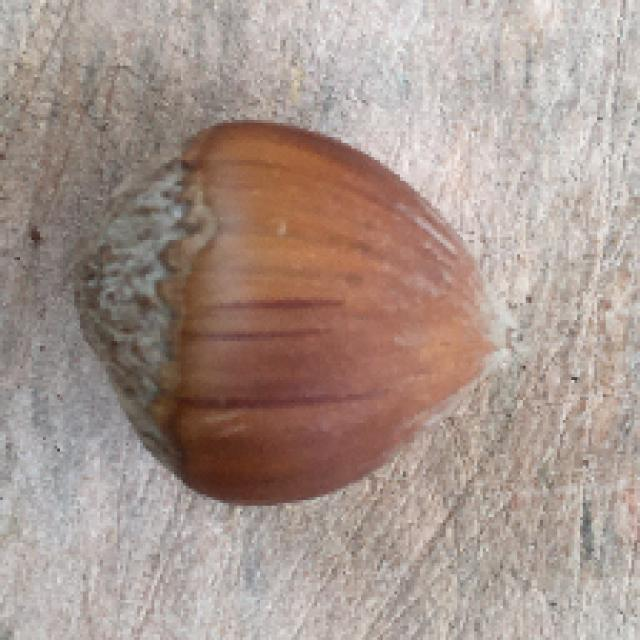qualityHazelnut: (64, 101, 516, 521)
